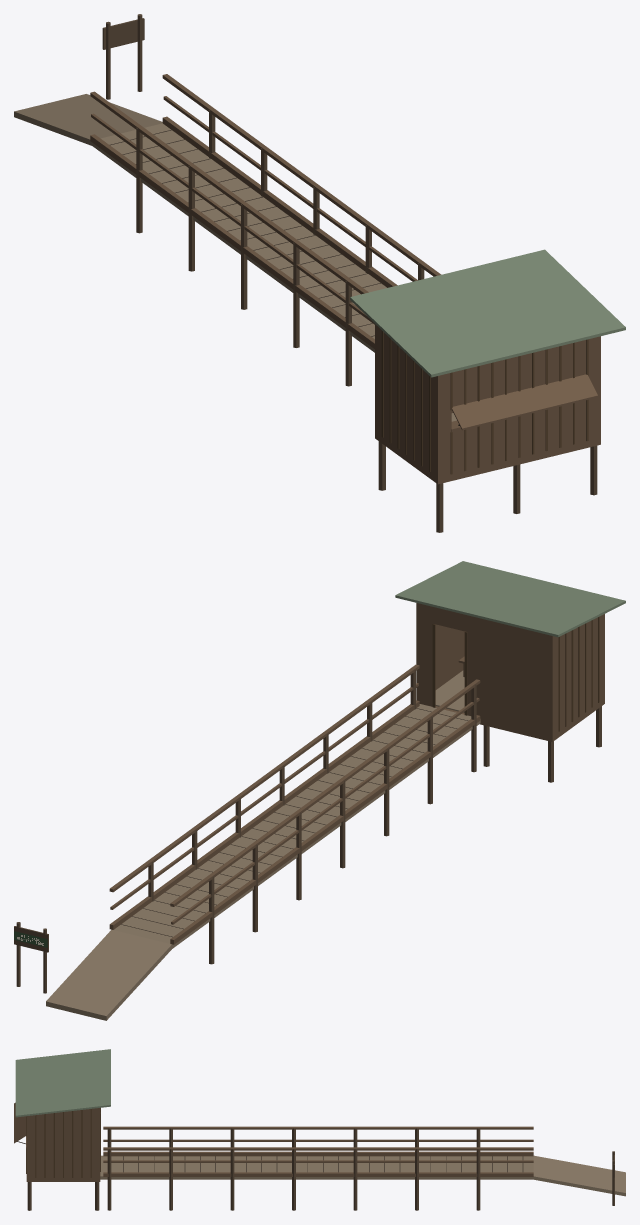
File: herdsman_hide.glb
The picture shows the model from 3 angles, top to bottom: view 1: azimuth 30°, elevation 25°; view 2: azimuth 150°, elevation 25°; view 3: azimuth 270°, elevation 25°; orthographic projection. The views are drawn at different scales.
Visible parts, largest first — view 1: HerdsmanHide; view 2: HerdsmanHide; view 3: HerdsmanHide.
Boxes of the visible parts, bbox=[...] form: HerdsmanHide: bbox=[14, 14, 625, 532]; HerdsmanHide: bbox=[14, 561, 625, 1020]; HerdsmanHide: bbox=[14, 1049, 625, 1210].
Size of what is drawn, in the model's own units: 4.9 by 3.97 by 19.91.
10 materials, 2 textured.
